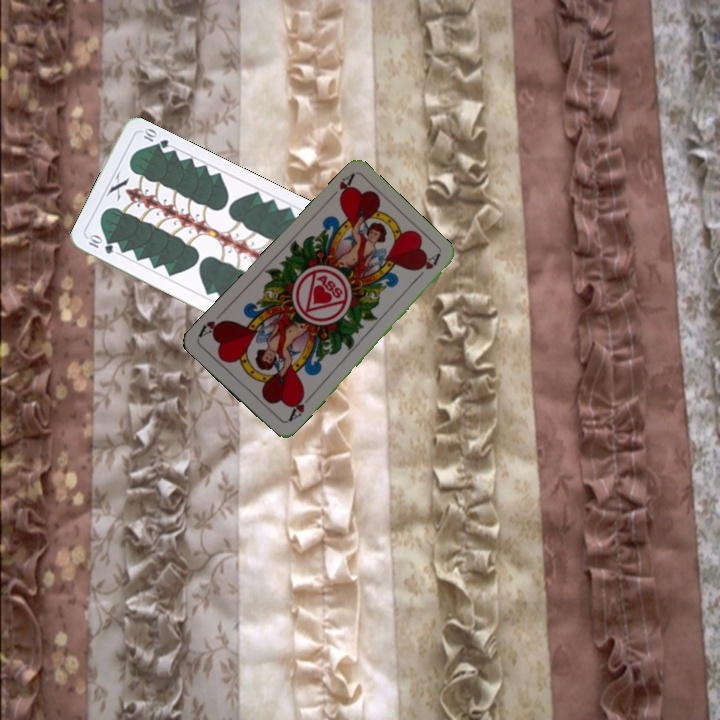G10: (83, 231, 116, 257)
HA: (324, 170, 357, 204), (284, 389, 314, 424)
